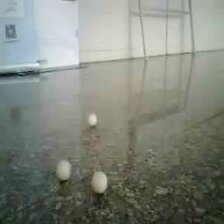tennis: (177, 105, 200, 134), (94, 76, 112, 97), (18, 67, 35, 87), (102, 55, 114, 72)
